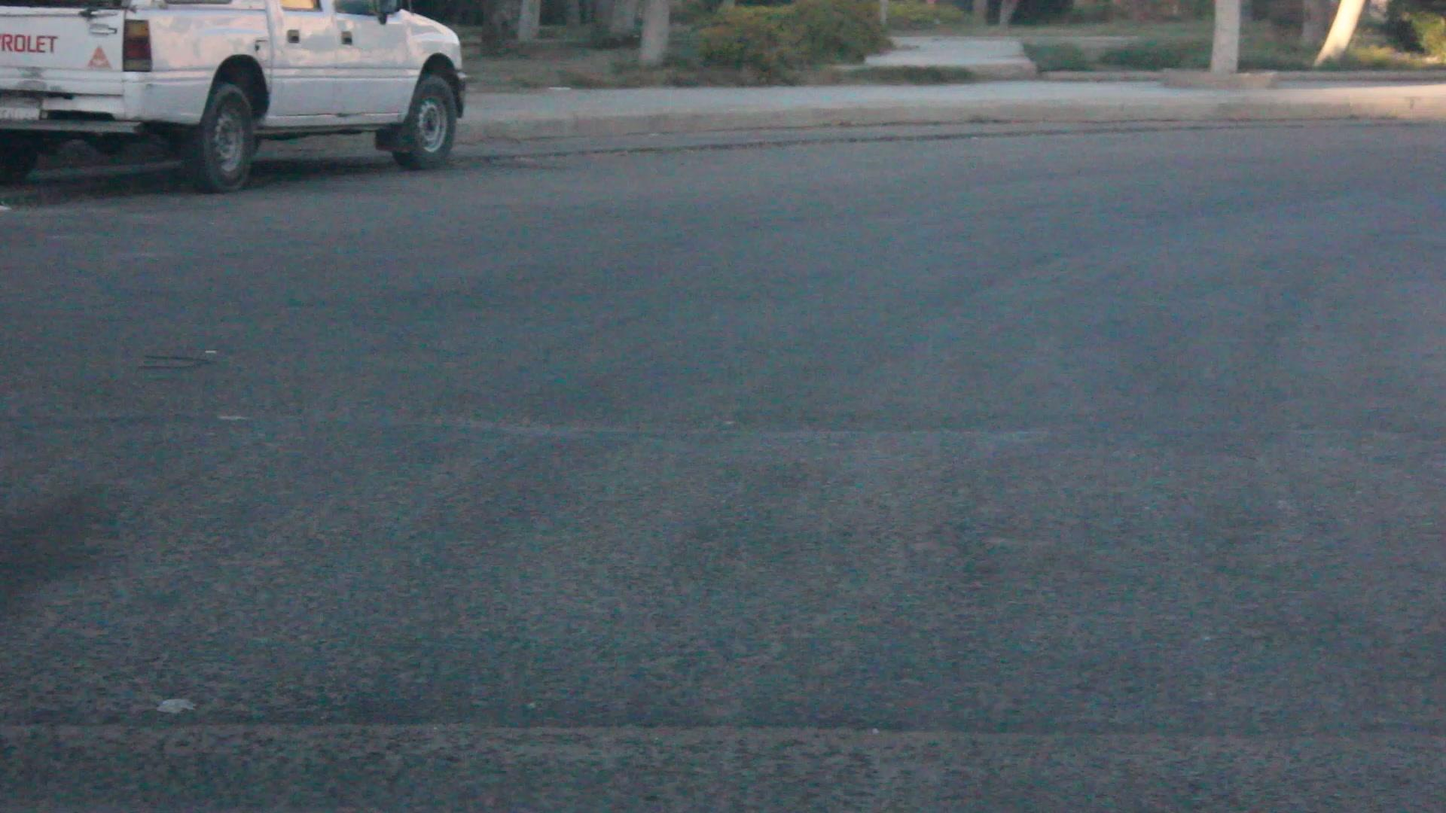Bump: (4, 425, 1446, 730)
